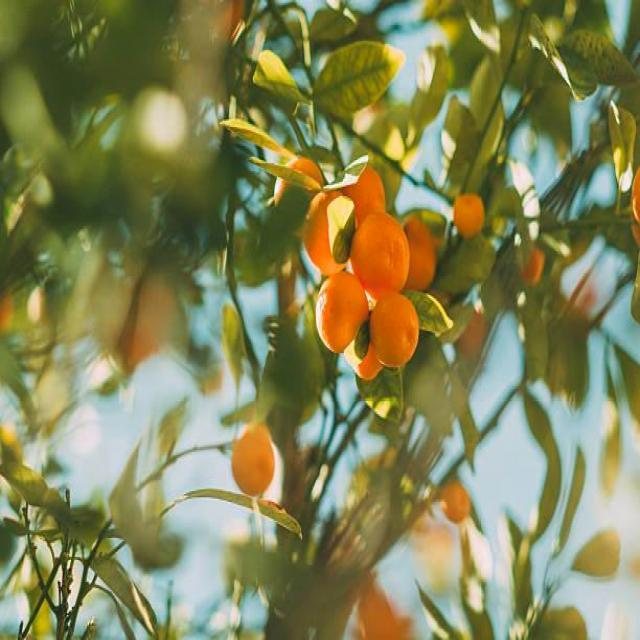Jeruk Sudah Matang: (353, 214, 411, 296), (316, 271, 369, 353), (306, 186, 356, 268), (372, 295, 421, 369), (230, 422, 276, 499), (342, 166, 389, 221), (272, 157, 326, 198), (343, 340, 384, 383), (454, 192, 488, 238), (443, 482, 473, 527), (631, 168, 640, 223)
